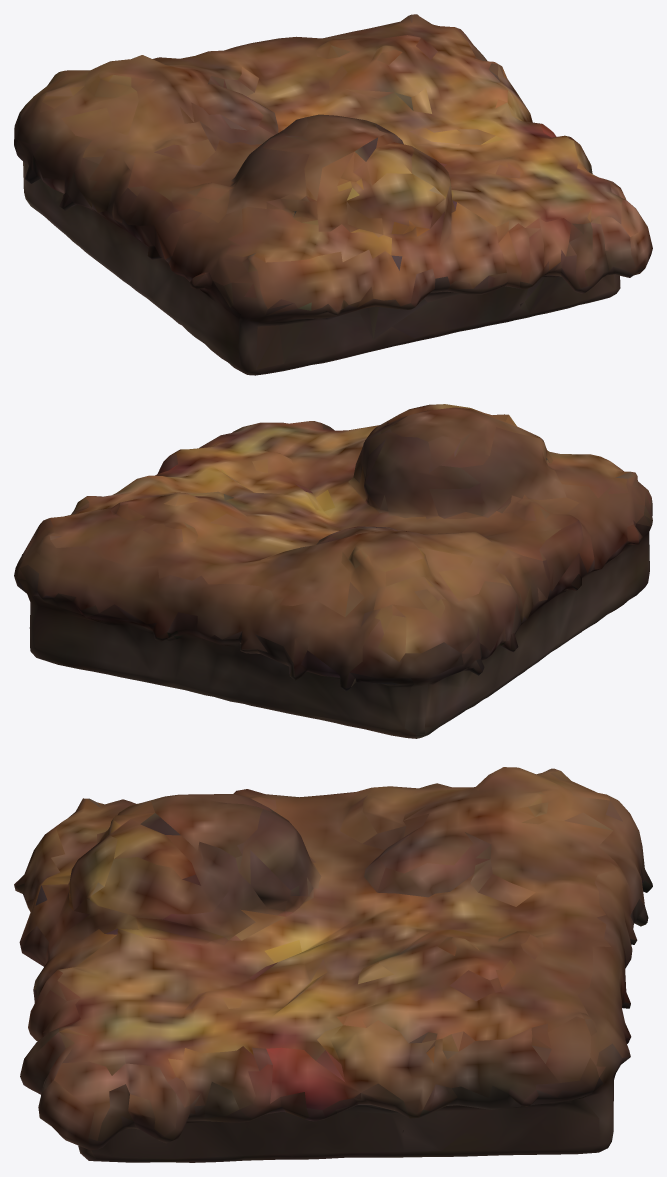
Rendered from m20_folhas_secas_pedra.glb.
3 views of the same model, one above another, from view 1: azimuth 30°, elevation 25°; view 2: azimuth 150°, elevation 25°; view 3: azimuth 270°, elevation 25° (orthographic). The views are drawn at different scales.
Visible parts, largest first — view 1: m20_folhas_secas_pedra; view 2: m20_folhas_secas_pedra; view 3: m20_folhas_secas_pedra.
Part boxes in pixels (x1,y1,x2,y2): m20_folhas_secas_pedra: (14,14,652,375); m20_folhas_secas_pedra: (14,404,652,738); m20_folhas_secas_pedra: (14,767,652,1162).
Size of the model in its own units: 1.06 by 0.4112 by 1.08.
1 material, 1 textured.
